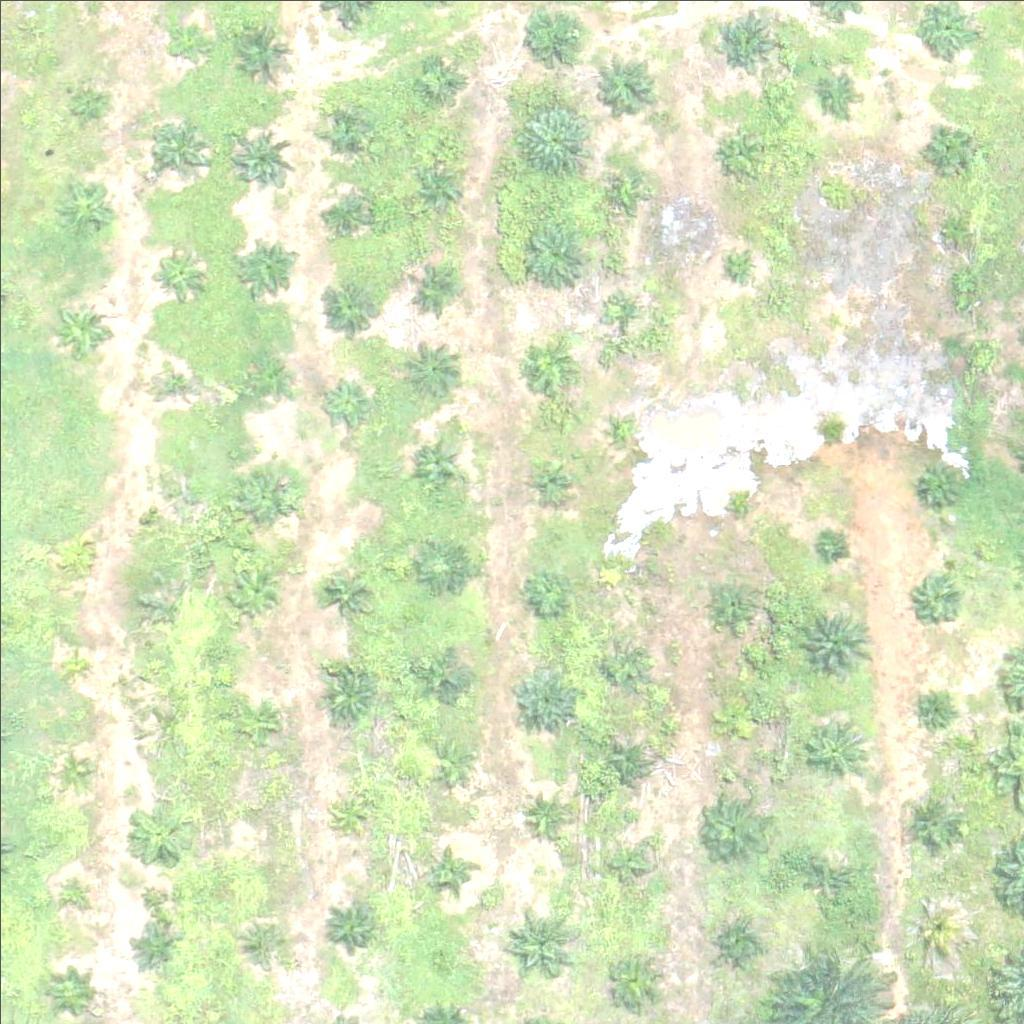Kelapa_Sawit: (519, 216, 594, 292), (515, 102, 590, 178), (798, 604, 873, 680), (598, 56, 661, 119), (56, 174, 119, 237), (713, 10, 776, 73), (397, 336, 460, 399), (512, 903, 575, 966), (606, 949, 669, 1012), (239, 465, 302, 528), (49, 297, 112, 360), (510, 667, 573, 730), (595, 832, 658, 895), (318, 267, 381, 330), (235, 229, 297, 292), (234, 16, 296, 79), (147, 115, 209, 178), (231, 132, 293, 195), (703, 794, 765, 857), (803, 715, 865, 778), (316, 663, 378, 726), (222, 562, 284, 625), (126, 802, 188, 865), (799, 845, 861, 908), (153, 248, 203, 299), (922, 126, 972, 177), (416, 540, 466, 591), (418, 658, 468, 709), (598, 736, 648, 787), (522, 793, 572, 844), (597, 642, 647, 693), (718, 915, 768, 966), (709, 696, 759, 747), (521, 569, 571, 620), (323, 569, 373, 620), (149, 354, 199, 405), (237, 356, 287, 407), (319, 379, 369, 430), (411, 437, 461, 488), (415, 57, 465, 107), (908, 799, 958, 849), (522, 336, 572, 386), (324, 903, 374, 953), (128, 924, 178, 974), (228, 699, 278, 749), (425, 739, 475, 789), (703, 576, 753, 626), (321, 191, 371, 241), (319, 107, 369, 157), (413, 171, 463, 221), (408, 266, 458, 316), (526, 453, 576, 503), (914, 570, 964, 620), (911, 456, 961, 506), (907, 899, 957, 949), (821, 70, 859, 108), (46, 971, 84, 1009), (53, 870, 91, 908), (55, 751, 93, 789), (53, 644, 91, 682), (57, 544, 95, 582), (331, 797, 369, 835), (428, 852, 466, 890), (170, 21, 208, 59), (717, 127, 754, 165), (246, 919, 283, 957), (234, 790, 271, 828), (151, 492, 188, 530), (933, 209, 970, 247), (68, 85, 105, 122), (819, 531, 844, 557), (607, 175, 632, 201), (614, 421, 639, 446), (609, 293, 634, 318), (726, 250, 751, 275), (726, 494, 751, 519), (918, 696, 943, 721), (820, 305, 845, 330)
